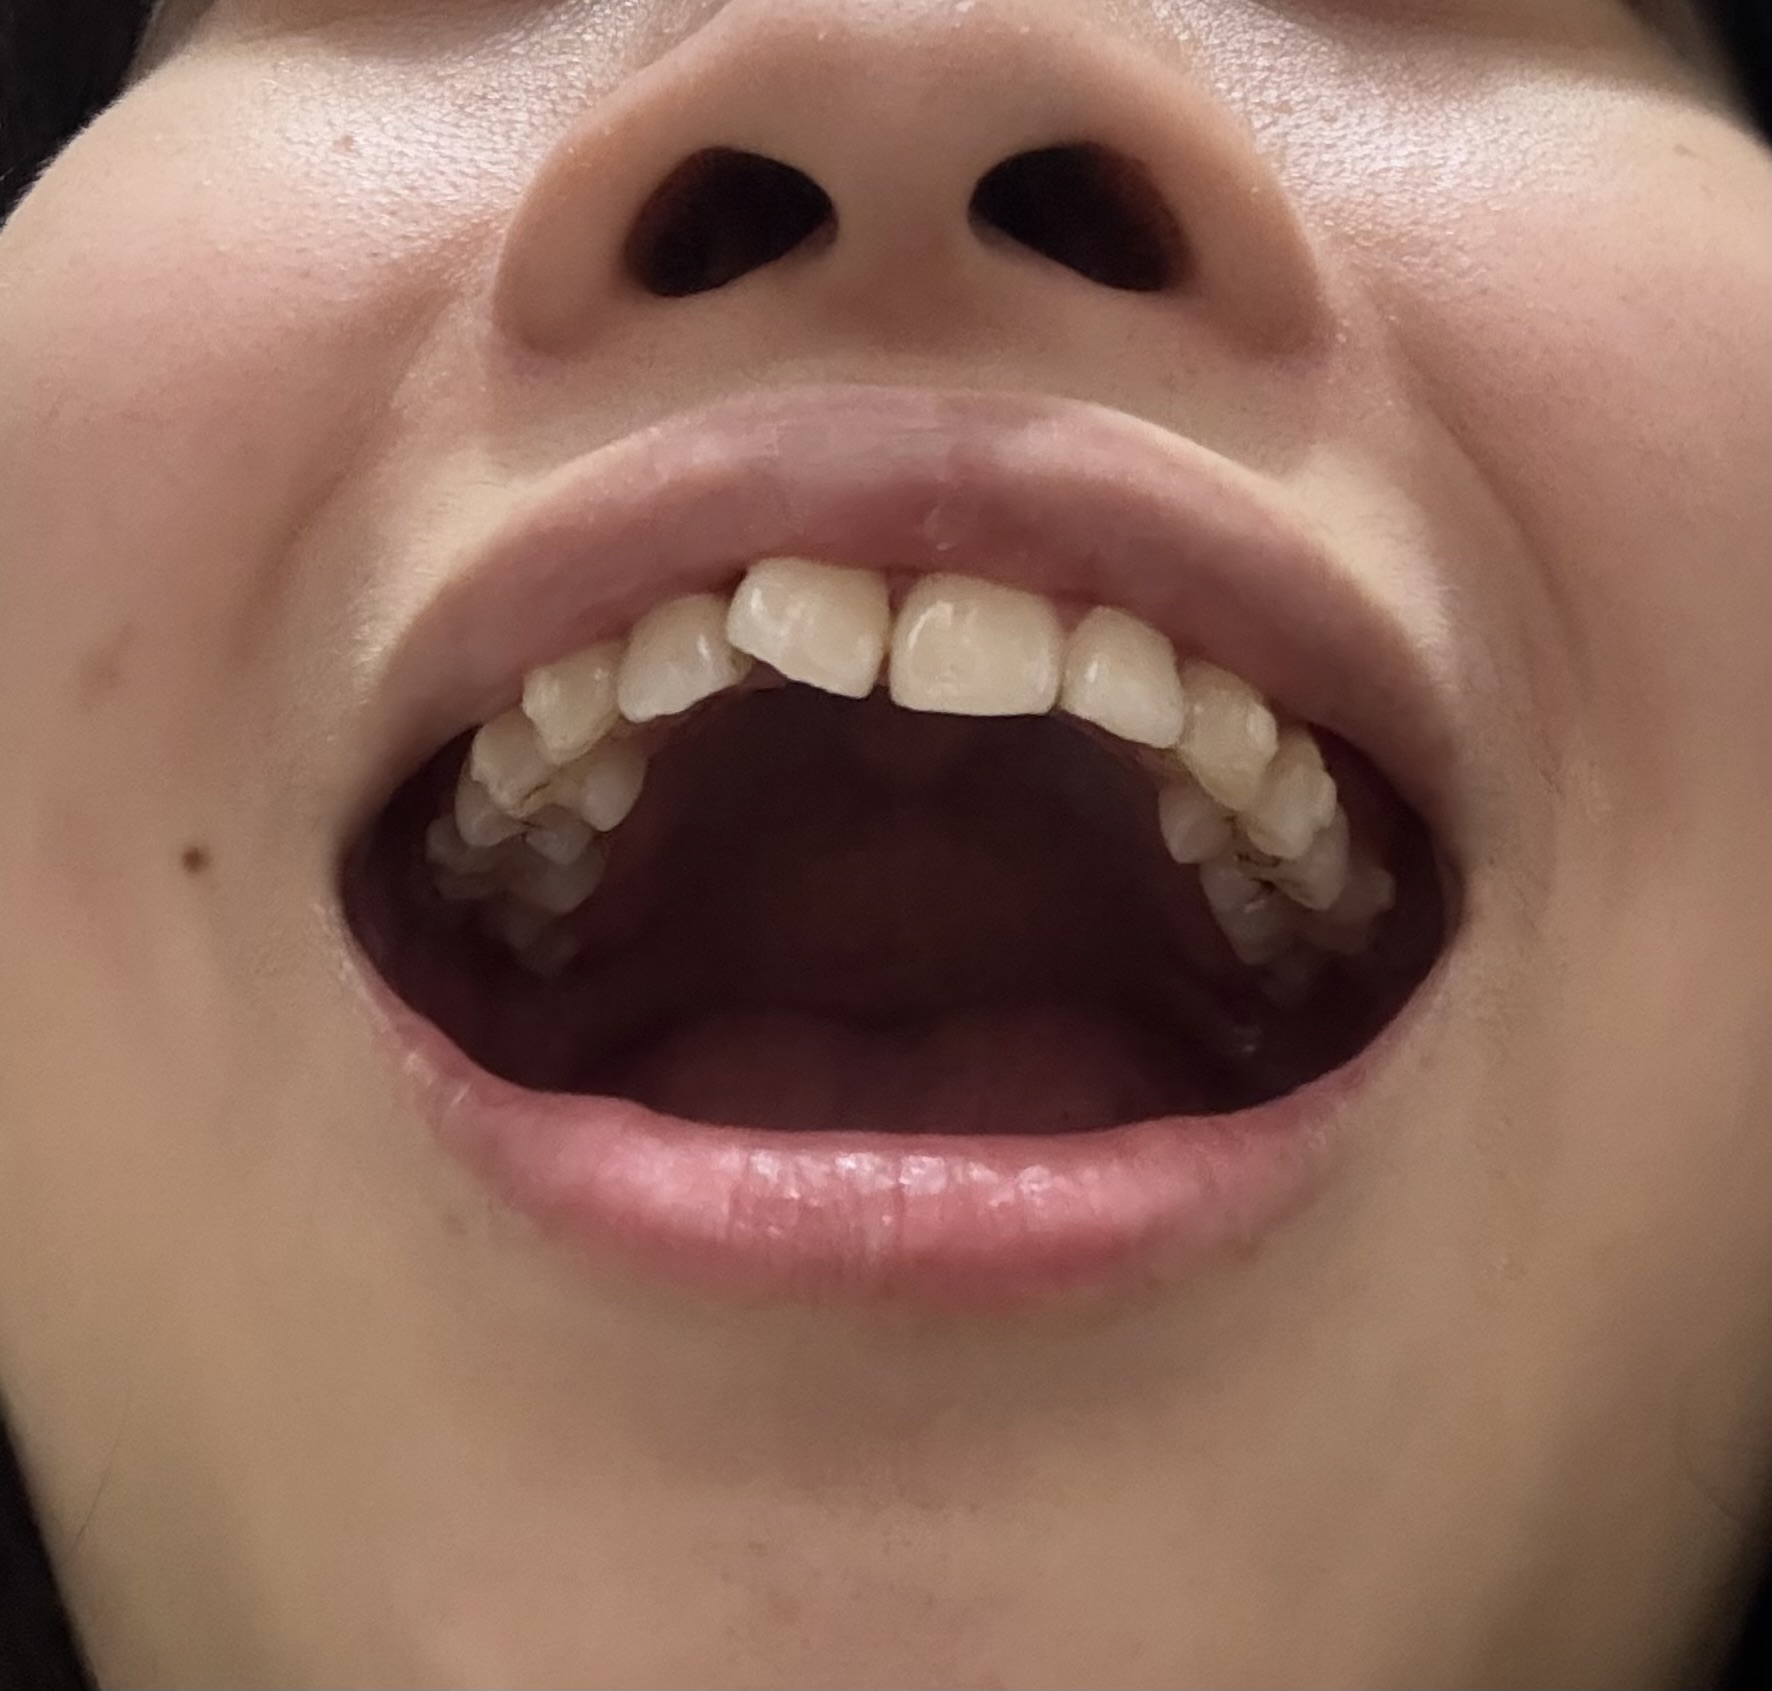teeth: (731, 560, 873, 693), (465, 713, 634, 821), (907, 585, 1057, 704), (1174, 736, 1305, 861), (1073, 622, 1176, 748), (625, 596, 729, 713), (1185, 658, 1259, 815), (525, 653, 608, 766)
